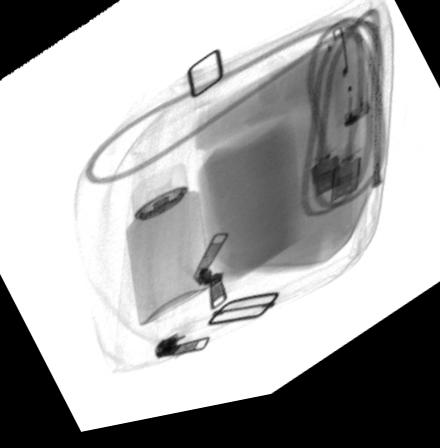Lighter: (337, 64, 371, 145)
Sprayer: (124, 167, 217, 331)
